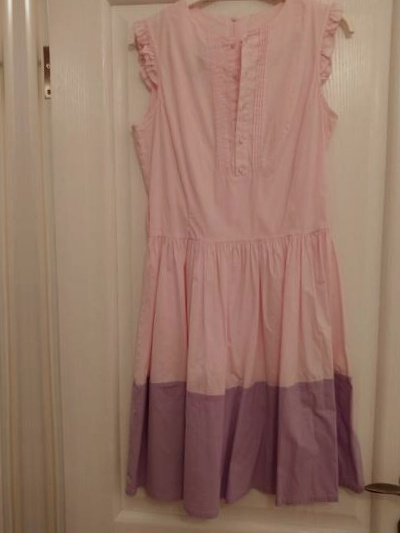Dress: (88, 0, 387, 504)
